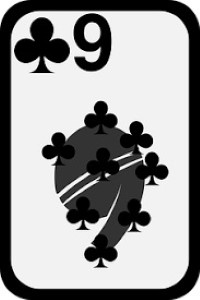NineOfClubs: (7, 9, 190, 290)
